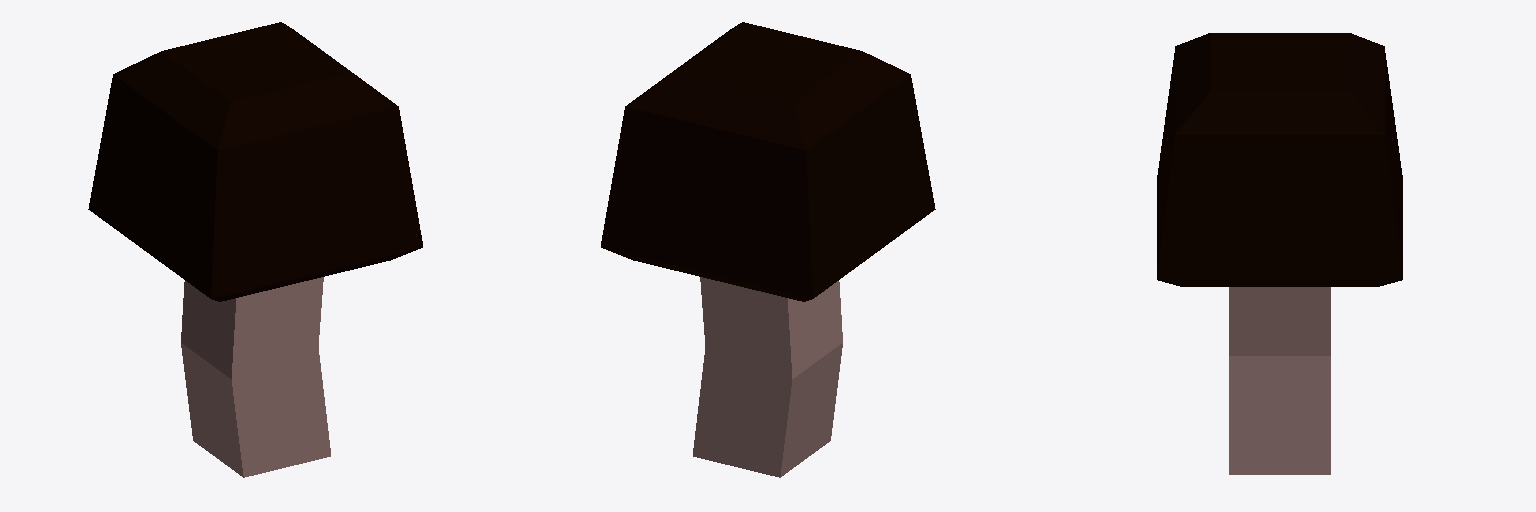
File: mushroom.obj
3 renders of one model, left to right at view 1: azimuth 30°, elevation 25°; view 2: azimuth 150°, elevation 25°; view 3: azimuth 270°, elevation 25°, orthographic.
Visible parts, largest first — view 1: Cube; view 2: Cube; view 3: Cube.
Part boxes in pixels (x1,y1,x2,y2): Cube: (88,22,422,477); Cube: (601,22,935,477); Cube: (1157,33,1402,474).
Bounding box in the file's own units: 4.84 × 8.46 × 4.84.